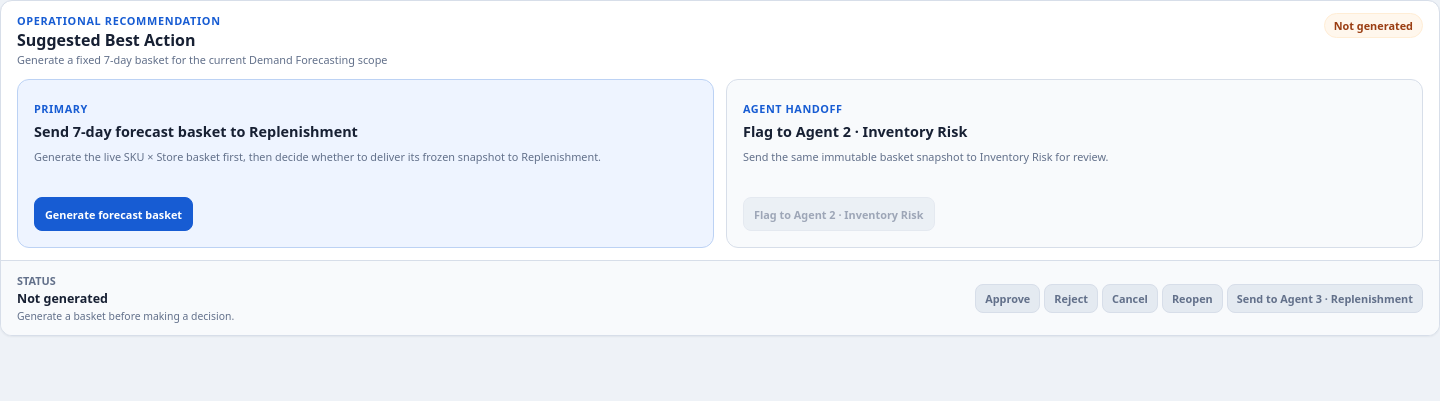
Test: DemandSuggestedActions › does not present a non-reconciling response as a ready basket
This screenshot has width=1440, height=401.
What coordinates should you click on to do the following:
click the button "Generate forecast basket"
I would click on:
 (114, 214)
Its box is 34,197 -> 193,231.
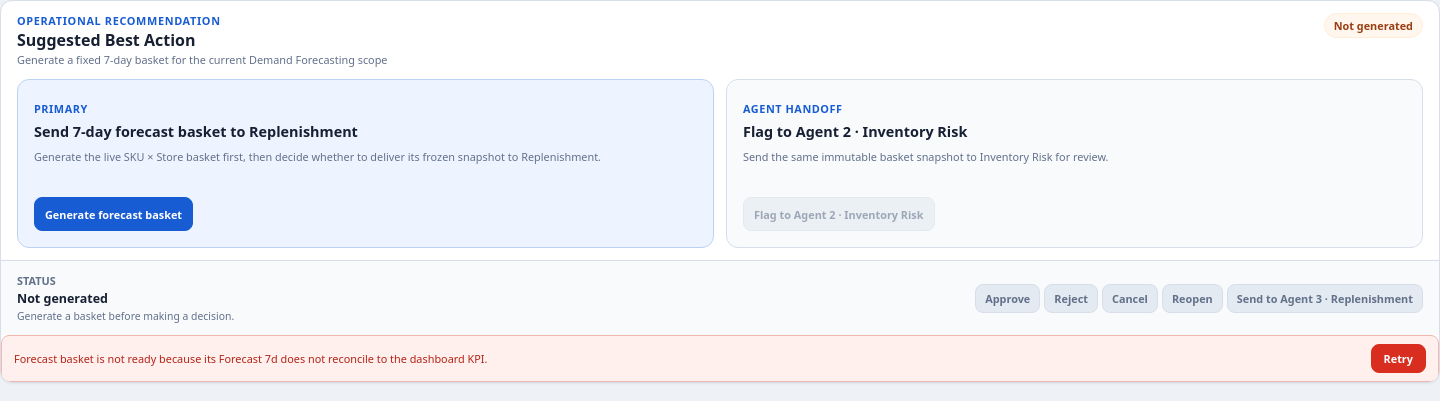
Check: the message shows "does not reconcile to the dashboard KPI", box 14,351 -> 488,366
